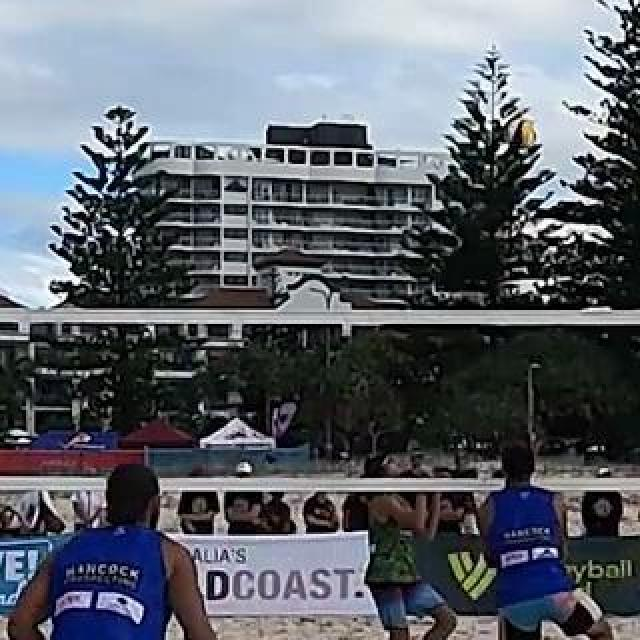volleyball: (513, 121, 537, 149)
